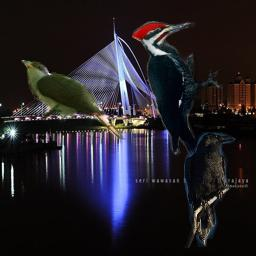Crow: (184, 132, 236, 248)
Cuckoo: (20, 60, 125, 140)
Woodpecker: (132, 19, 223, 174)
